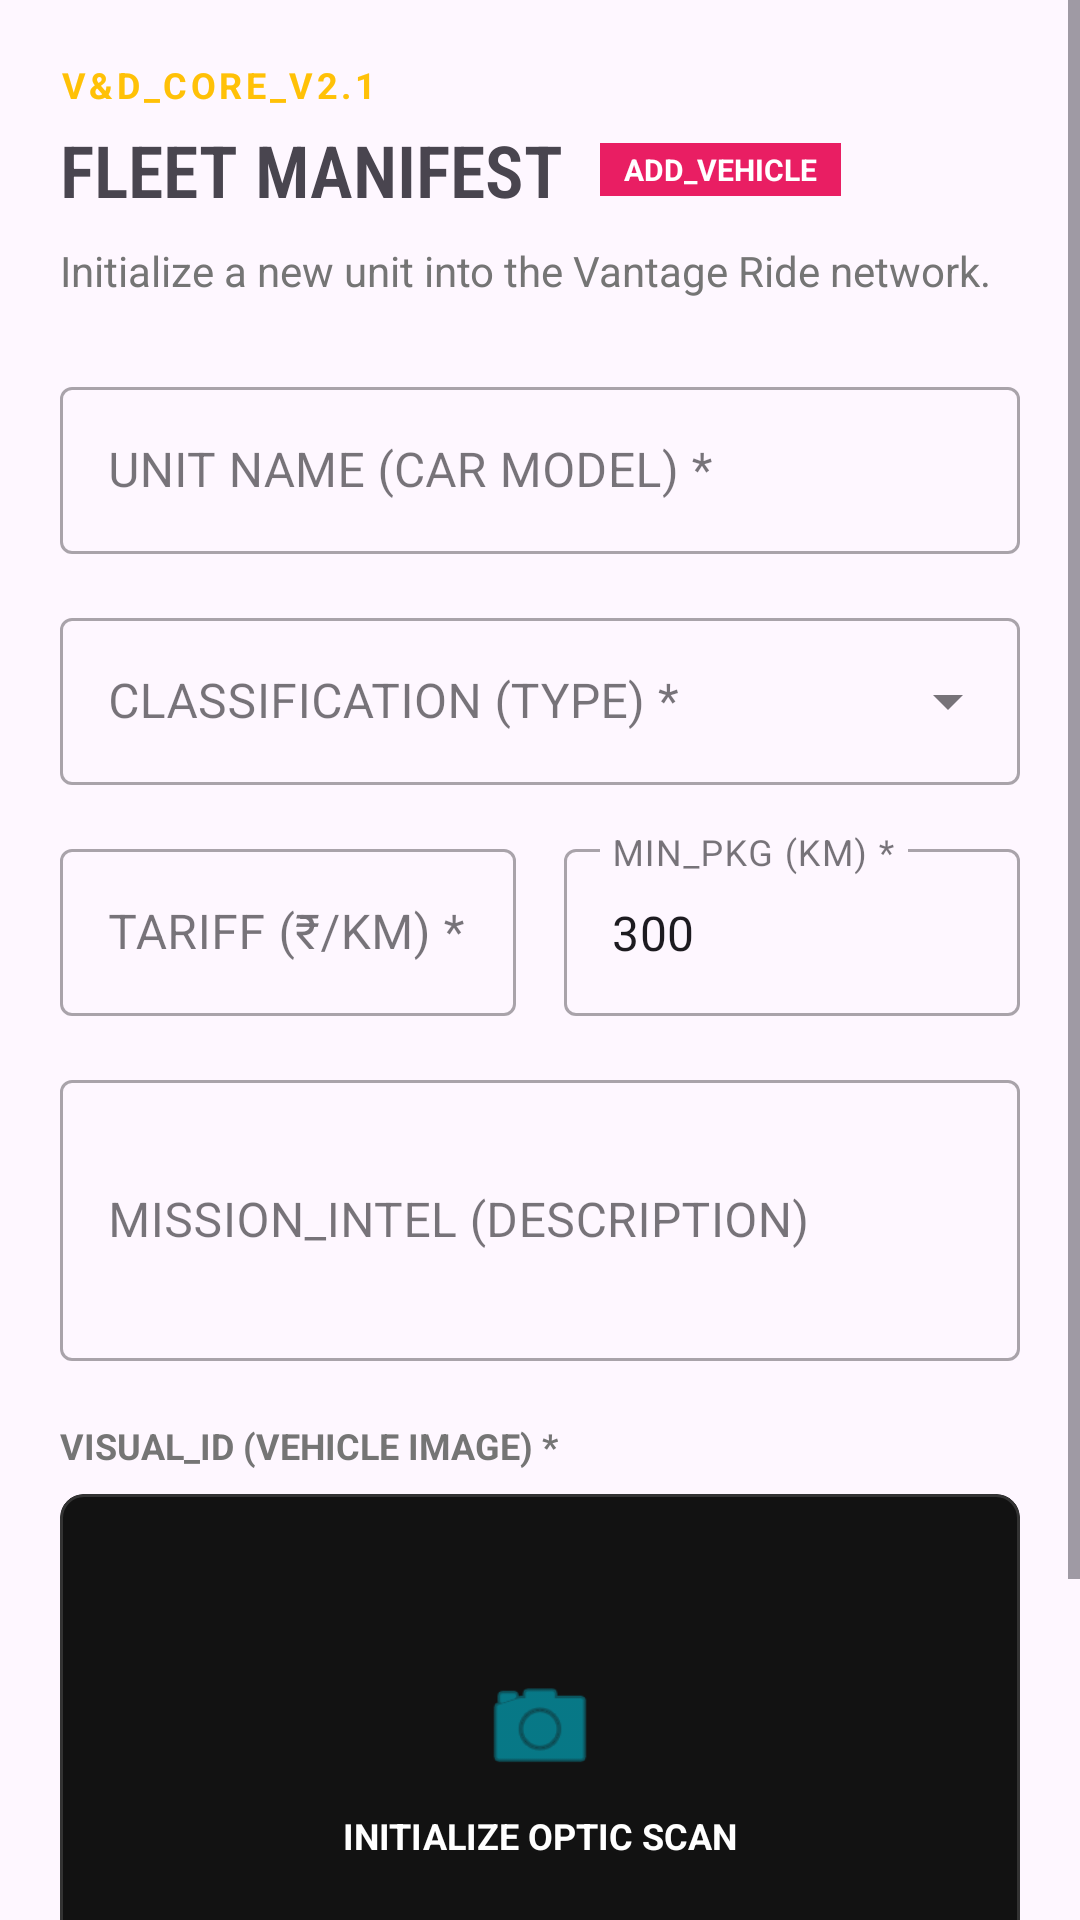

Named icons in this screenshot (1080*1920) and their bounding boxes, detection(x1, y1, x2, y2):
camera: detection(494, 1688, 586, 1762)
